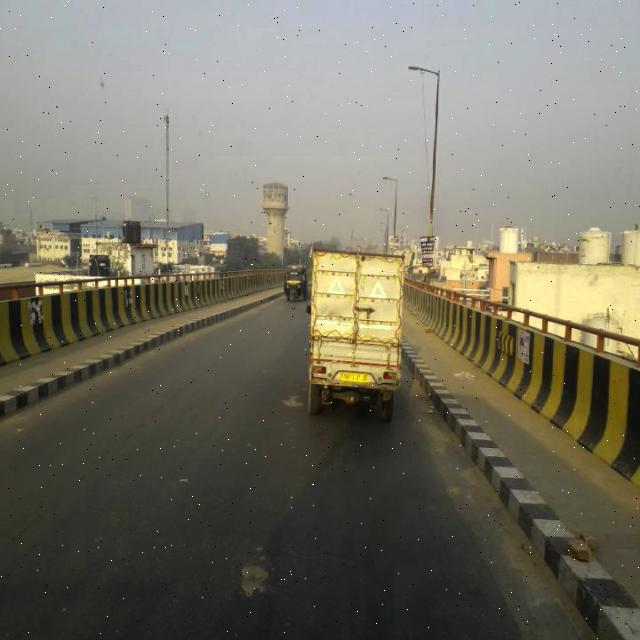D00: (7, 372, 200, 550)
